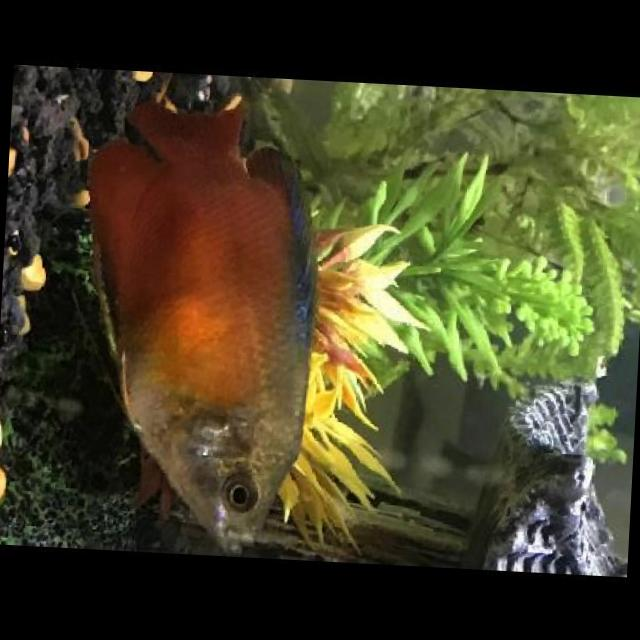Gourami: (67, 93, 332, 559)
